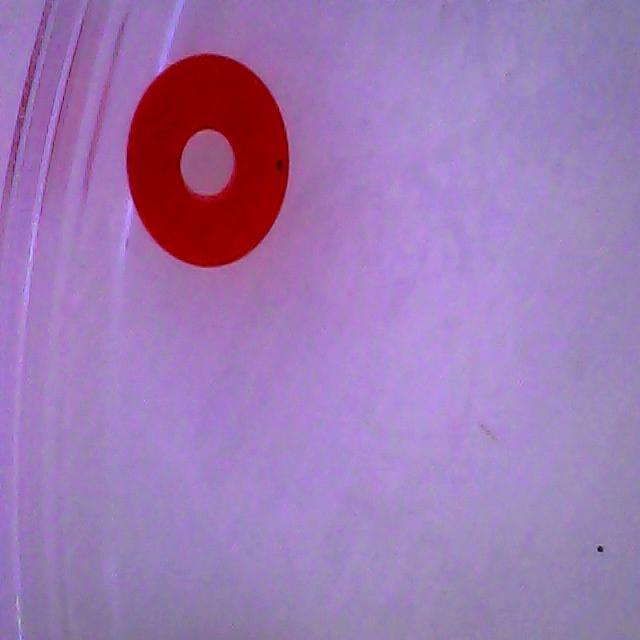beads: (125, 51, 291, 268)
